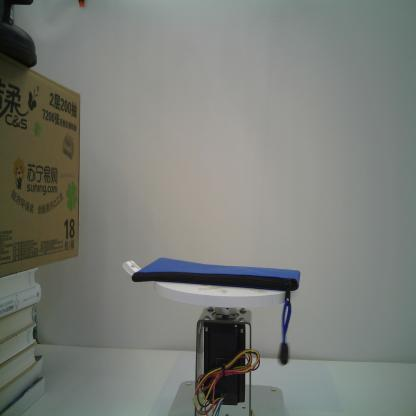Stationery: (131, 256, 300, 368)
